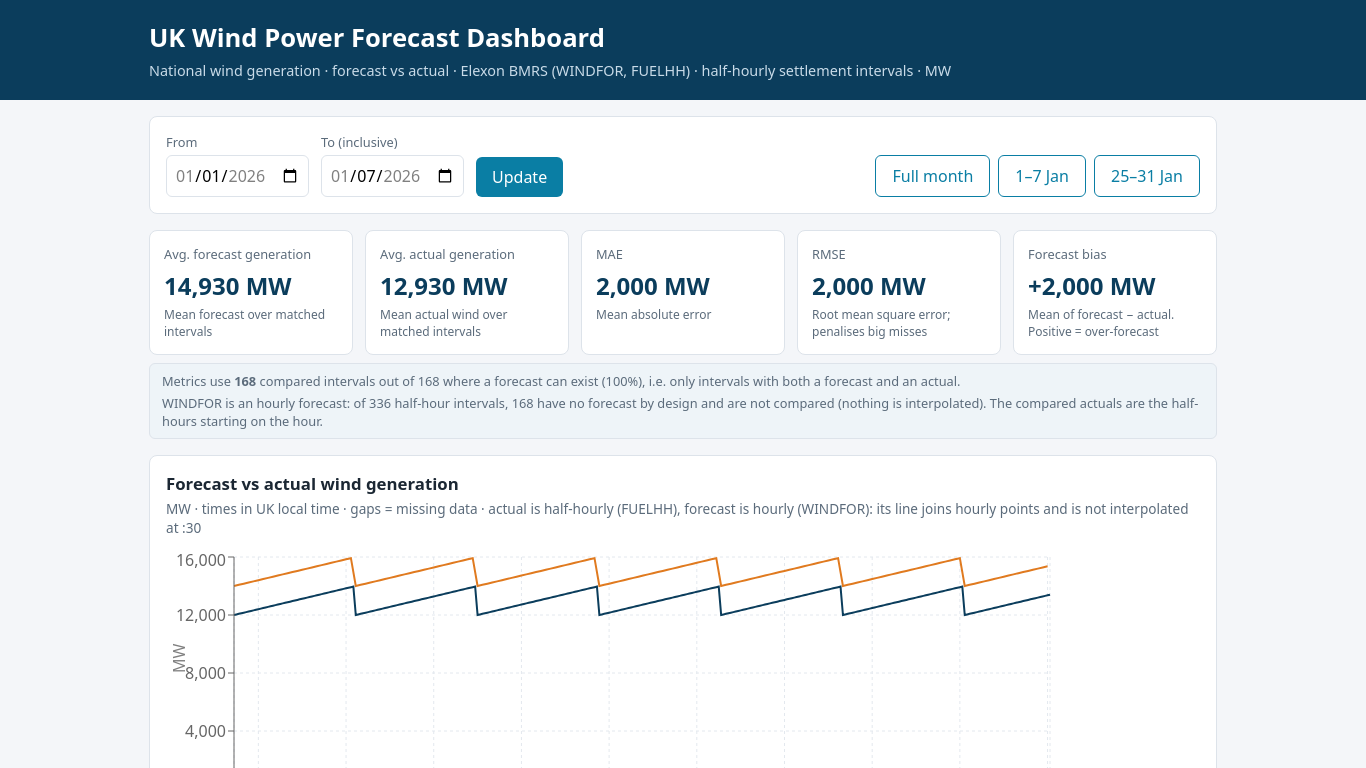
Test: date range controls › preset "Full month" requests 1-31 Jan
The width and height of the screenshot is (1366, 768).
Expected: the text "+2,000 MW" is shown, [1028,269,1156,302]
Click the button "Full month" at [933, 176], box [876,155,990,197]
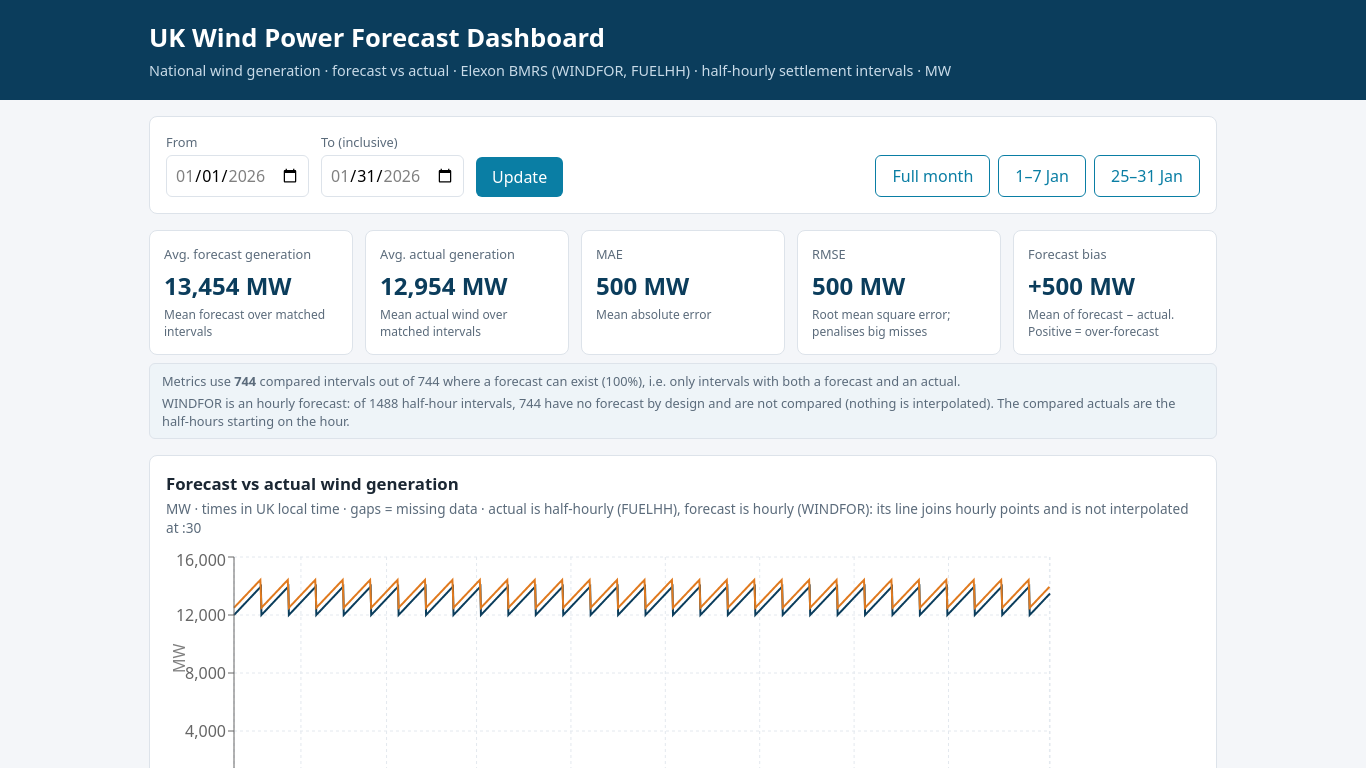
Result: the text "+500 MW" is shown at [1028,269,1135,302]
